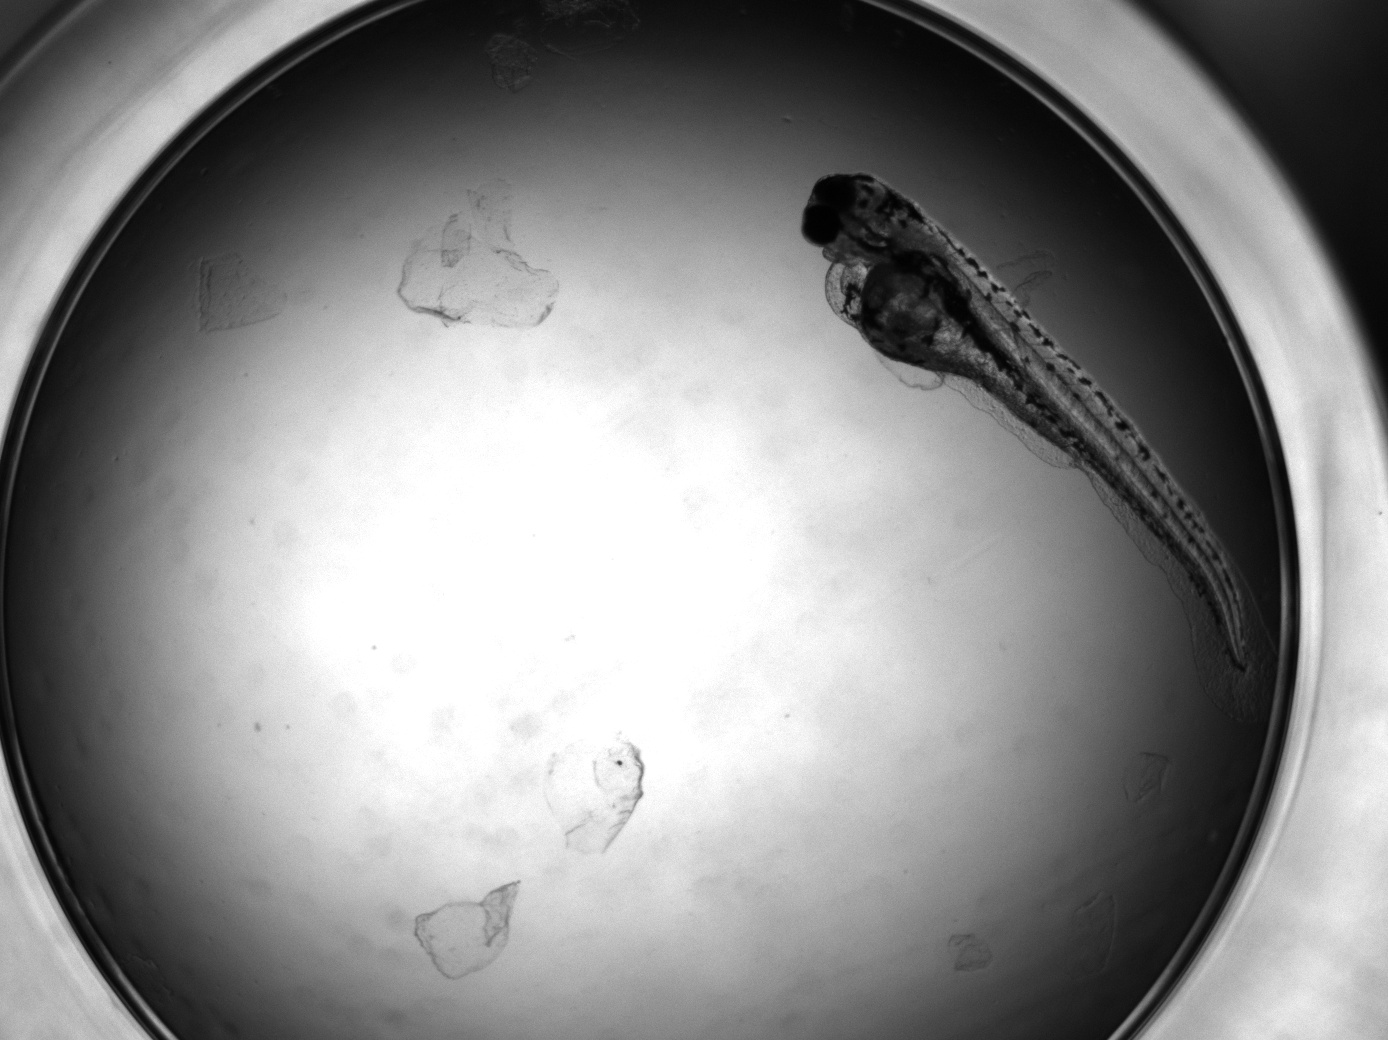debris: (398, 174, 560, 328), (544, 734, 645, 856), (410, 881, 522, 984), (195, 252, 285, 333)
embryo: (802, 172, 1251, 670)
eye: (814, 174, 856, 212), (800, 205, 840, 246)
yolksac: (825, 253, 1031, 405)
